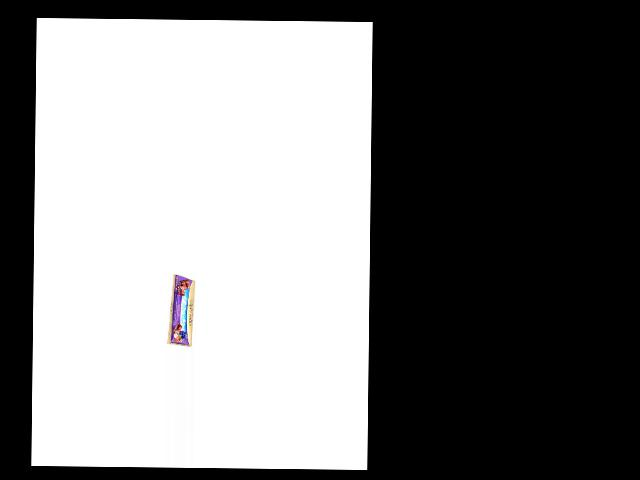chocolate: (167, 270, 192, 346)
